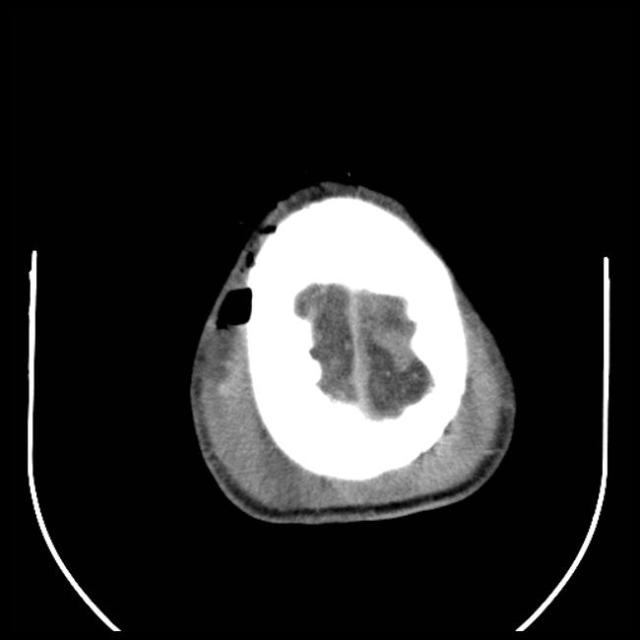lesion: (183, 175, 523, 528)
